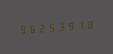eight: (87, 17, 96, 31)
five: (47, 20, 56, 33)
nine: (17, 22, 26, 36), (67, 19, 76, 32)
one: (77, 18, 86, 31)
six: (27, 22, 36, 35)
three: (57, 19, 66, 33)
two: (37, 21, 46, 34)
